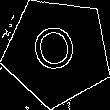O_S: (31, 22, 83, 81)
